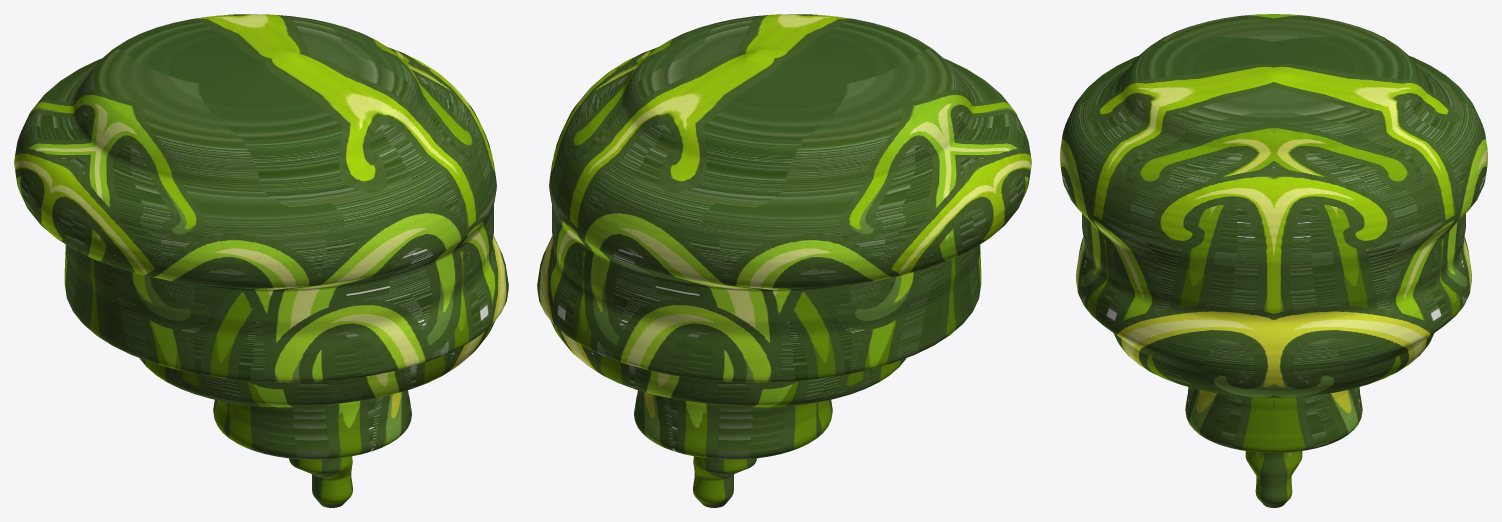
Rendered from curl_fern.glb.
The picture shows the model from 3 angles, left to right: view 1: azimuth 30°, elevation 25°; view 2: azimuth 150°, elevation 25°; view 3: azimuth 270°, elevation 25°; orthographic projection. The views are drawn at different scales.
Visible parts, largest first — view 1: curl_fern; view 2: curl_fern; view 3: curl_fern.
Part boxes in pixels (bbox=[...]): curl_fern: bbox=[14, 14, 508, 507]; curl_fern: bbox=[537, 14, 1031, 507]; curl_fern: bbox=[1060, 14, 1487, 507].
Bounding box in the file's own units: 1 × 1.02 × 0.959.
Materials: 1 (1 with a texture image).
